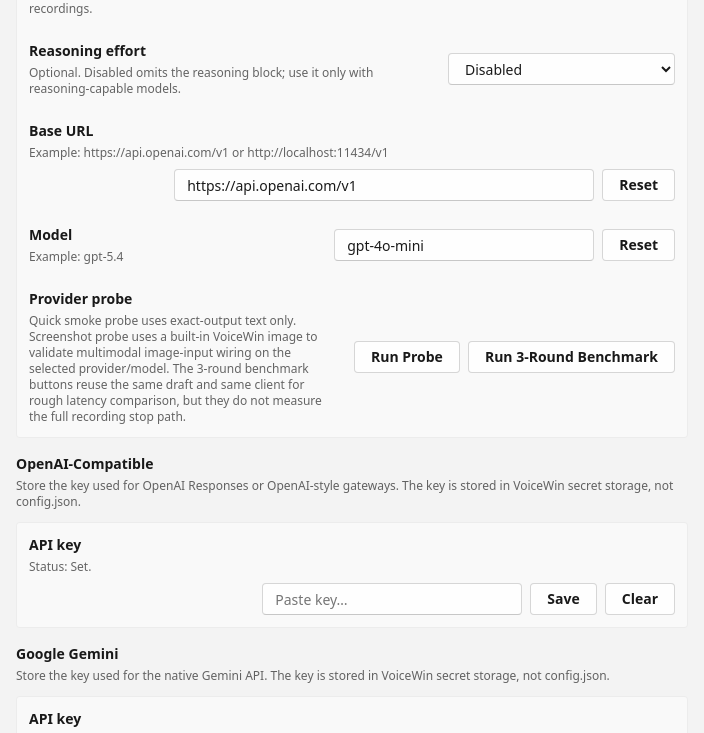
it: SettingsPage loading and local model status › runs a 3-round provider benchmark and summarizes latency plus warnings
The width and height of the screenshot is (704, 733).
(page scrolled)
Click the button "Run 3-Round Benchmark" at (571, 357), box [468, 341, 675, 373]
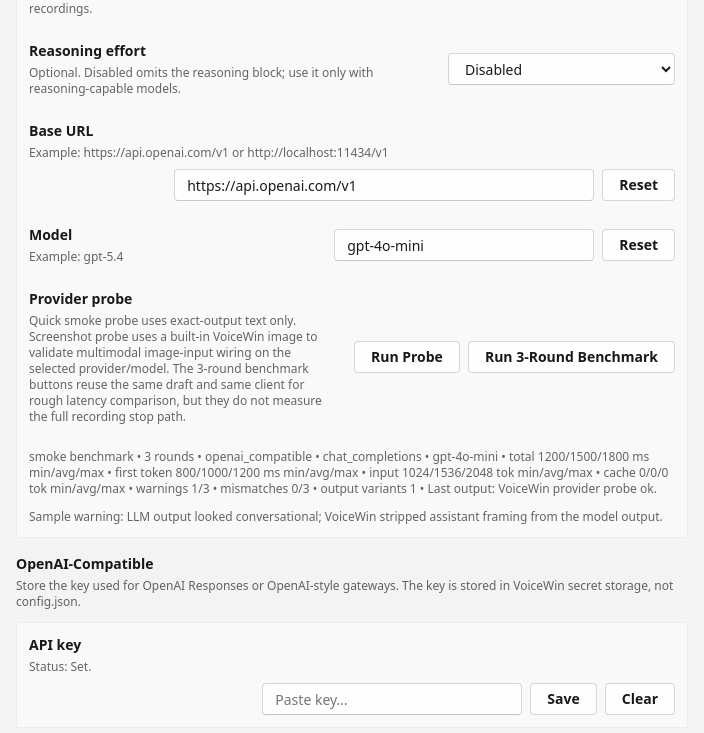
expect the text "smoke benchmark • 3 rounds • openai_compatible • chat_completions • gpt-4o-mini • total 1200/1500/1800 ms min/avg/ma" is shown: met, box [29, 448, 668, 497]
expect the text "Sample warning: LLM output looked conversational; VoiceWin stripped assistant framing from the model output." is shown: met, box [17, 509, 687, 537]
